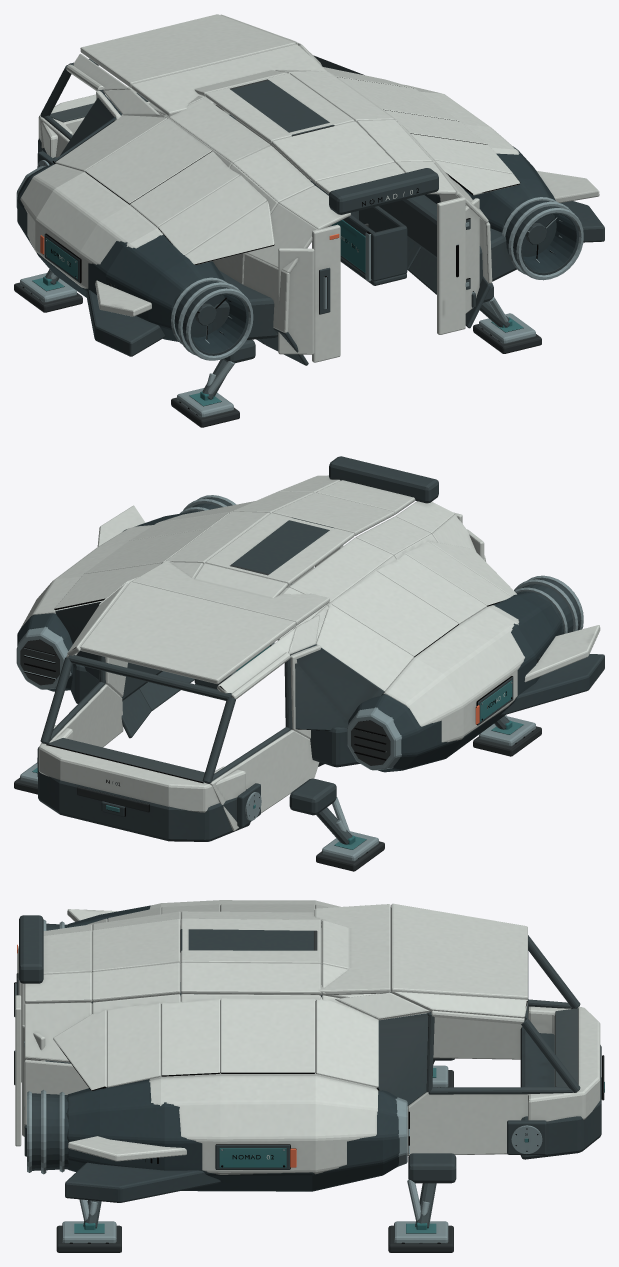
Rendered from nomad-meshy-input.glb.
3 views of the same model, one above another, from view 1: azimuth 30°, elevation 25°; view 2: azimuth 150°, elevation 25°; view 3: azimuth 270°, elevation 25° (orthographic). The views are drawn at different scales.
Visible parts, largest first — view 1: NomadPaintingShell; view 2: NomadPaintingShell; view 3: NomadPaintingShell.
Boxes of the visible parts, left/top/right/bottom form: NomadPaintingShell: left=14, top=14, right=604, bottom=427; NomadPaintingShell: left=14, top=456, right=604, bottom=871; NomadPaintingShell: left=14, top=900, right=604, bottom=1252.
Bounding box in the file's own units: 9.74 × 4.04 × 9.56.
1 material, 1 textured.
